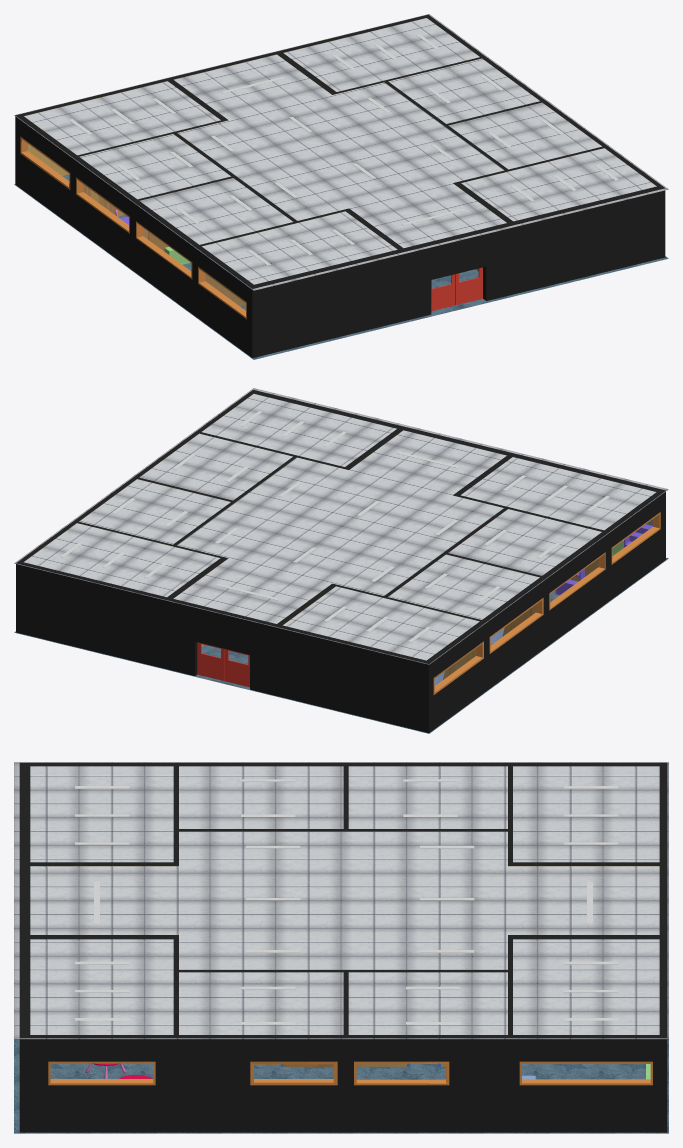
Rendered from Guarderia_01.fbx.
3 renders of one model, top to bottom at view 1: azimuth 30°, elevation 25°; view 2: azimuth 150°, elevation 25°; view 3: azimuth 270°, elevation 25°, orthographic. The views are drawn at different scales.
Parts seen in each view (by area): view 1: Techos, Plane, Pisos, Cube.010, Cube.011, Cube.070; view 2: Techos, Plane, Pisos, Cube.009, Cube.008, Cube.070; view 3: Techos, Plane, Pisos, Cube.070, Cube.079, Cube.077.
Boxes of the visible parts, x1=… form: Techos: x1=14, y1=14, x2=668, y2=290; Plane: x1=15, y1=14, x2=665, y2=357; Pisos: x1=14, y1=174, x2=668, y2=359; Cube.010: x1=455, y1=267, x2=482, y2=305; Cube.011: x1=431, y1=274, x2=455, y2=311; Cube.070: x1=211, y1=97, x2=454, y2=197; Techos: x1=14, y1=388, x2=668, y2=664; Plane: x1=16, y1=390, x2=665, y2=733; Pisos: x1=14, y1=555, x2=668, y2=733; Cube.009: x1=197, y1=642, x2=224, y2=680; Cube.008: x1=224, y1=649, x2=249, y2=687; Cube.070: x1=215, y1=481, x2=457, y2=581; Techos: x1=14, y1=762, x2=668, y2=1039; Plane: x1=19, y1=762, x2=667, y2=1132; Pisos: x1=14, y1=1039, x2=668, y2=1133; Cube.070: x1=246, y1=845, x2=474, y2=952; Cube.079: x1=75, y1=961, x2=129, y2=1020; Cube.077: x1=564, y1=961, x2=618, y2=1020.
Bounding box in the file's own units: 2500 × 403 × 2500.
